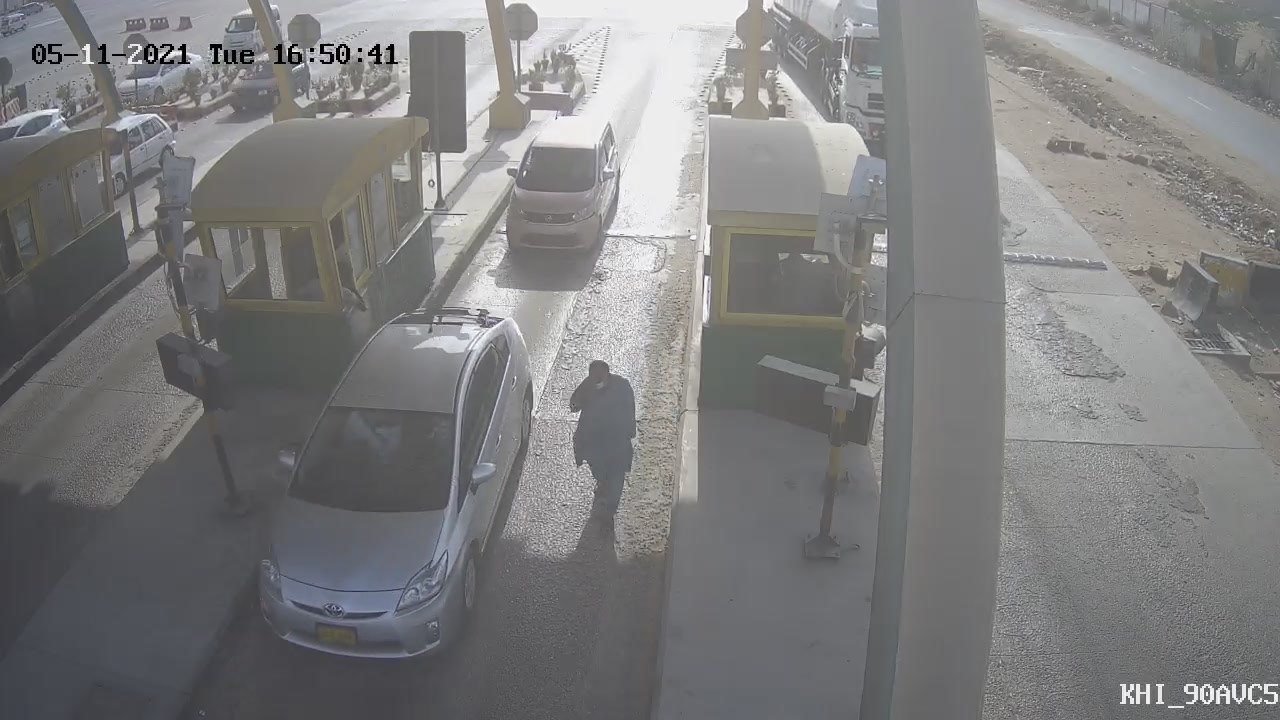F1: (479, 100, 643, 277)
